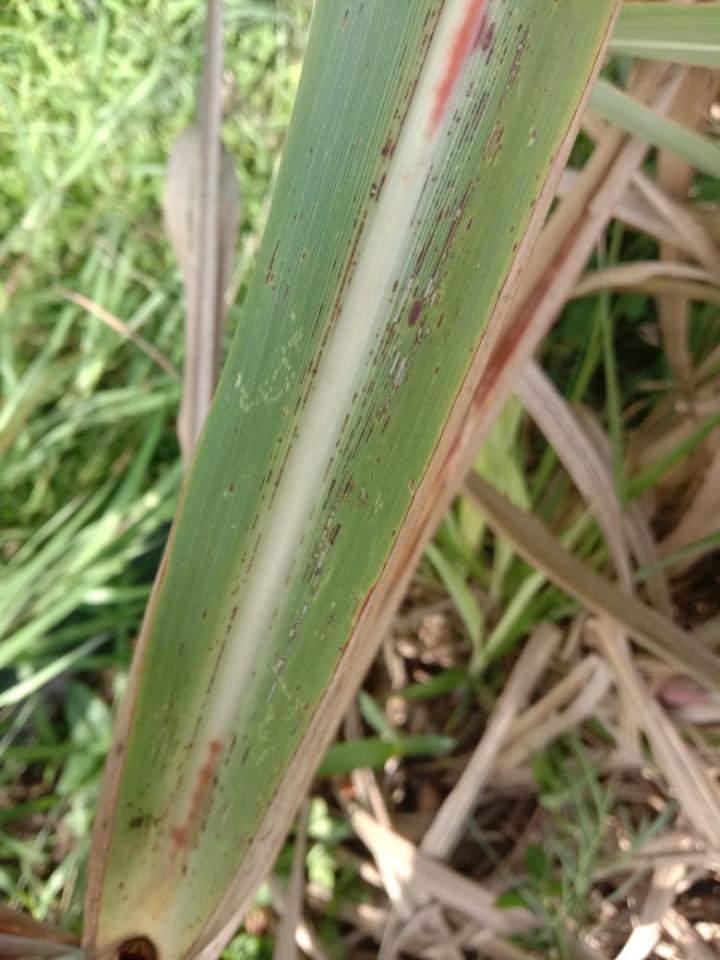RedRot: (430, 2, 483, 124), (167, 742, 212, 848)
Rust: (221, 0, 557, 781), (160, 0, 453, 807), (502, 116, 570, 262), (141, 675, 186, 779), (122, 788, 174, 842), (196, 774, 233, 838), (248, 758, 282, 822), (260, 232, 288, 302), (284, 697, 316, 739), (114, 876, 139, 909), (178, 861, 201, 888), (208, 874, 228, 901), (183, 914, 205, 934), (172, 638, 190, 660), (198, 602, 213, 622), (226, 476, 244, 492), (280, 284, 293, 306), (326, 605, 339, 626), (406, 472, 418, 494), (292, 209, 308, 225), (430, 361, 444, 379), (295, 678, 308, 696), (387, 526, 402, 540), (356, 0, 369, 15), (340, 7, 351, 24), (300, 249, 310, 266), (247, 830, 256, 848), (306, 143, 316, 158), (290, 184, 298, 194)
